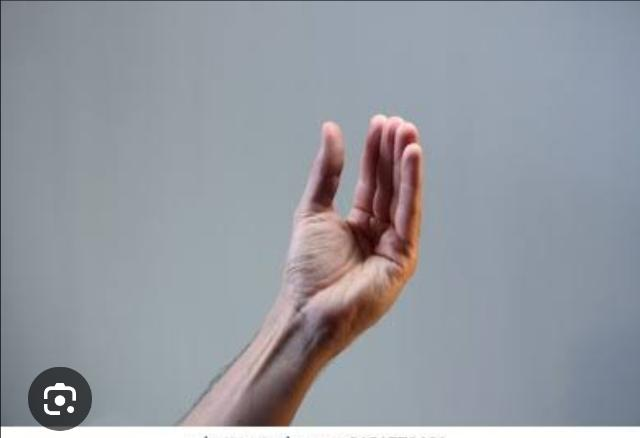padamkosh: (247, 115, 424, 429)
